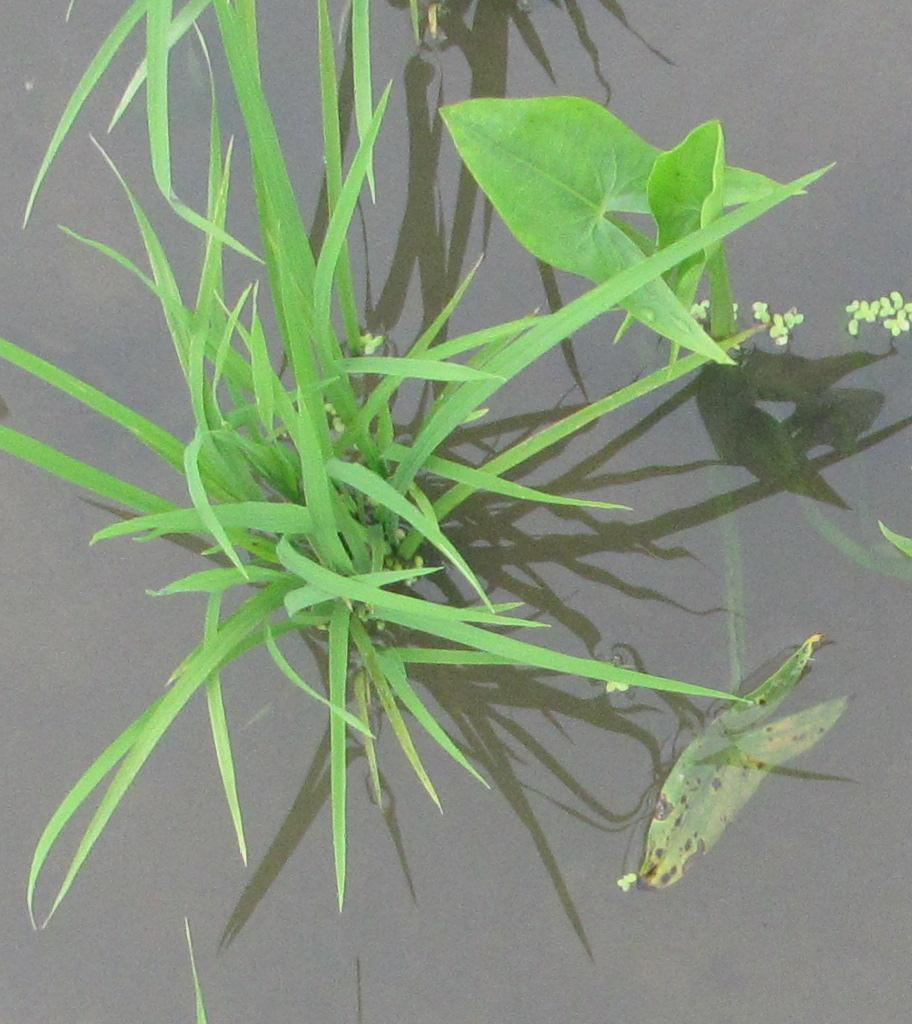Weed: (433, 91, 813, 366)
